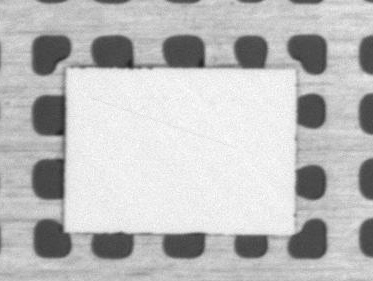DIE_CRACK: (114, 72, 315, 111)
